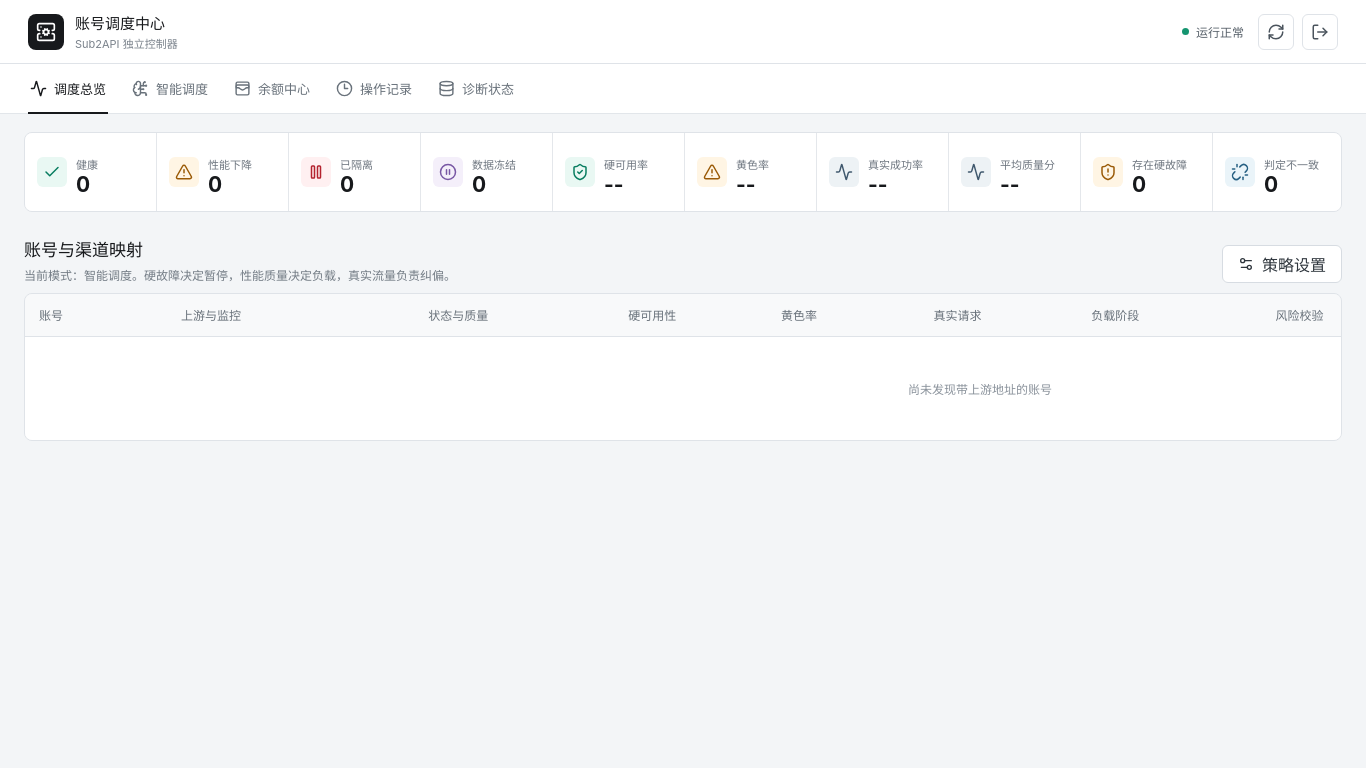
Test: App › requires confirmation before releasing either global freeze
The image size is (1366, 768).
Click the button "智能调度": [170, 89] box [130,64,210,114]
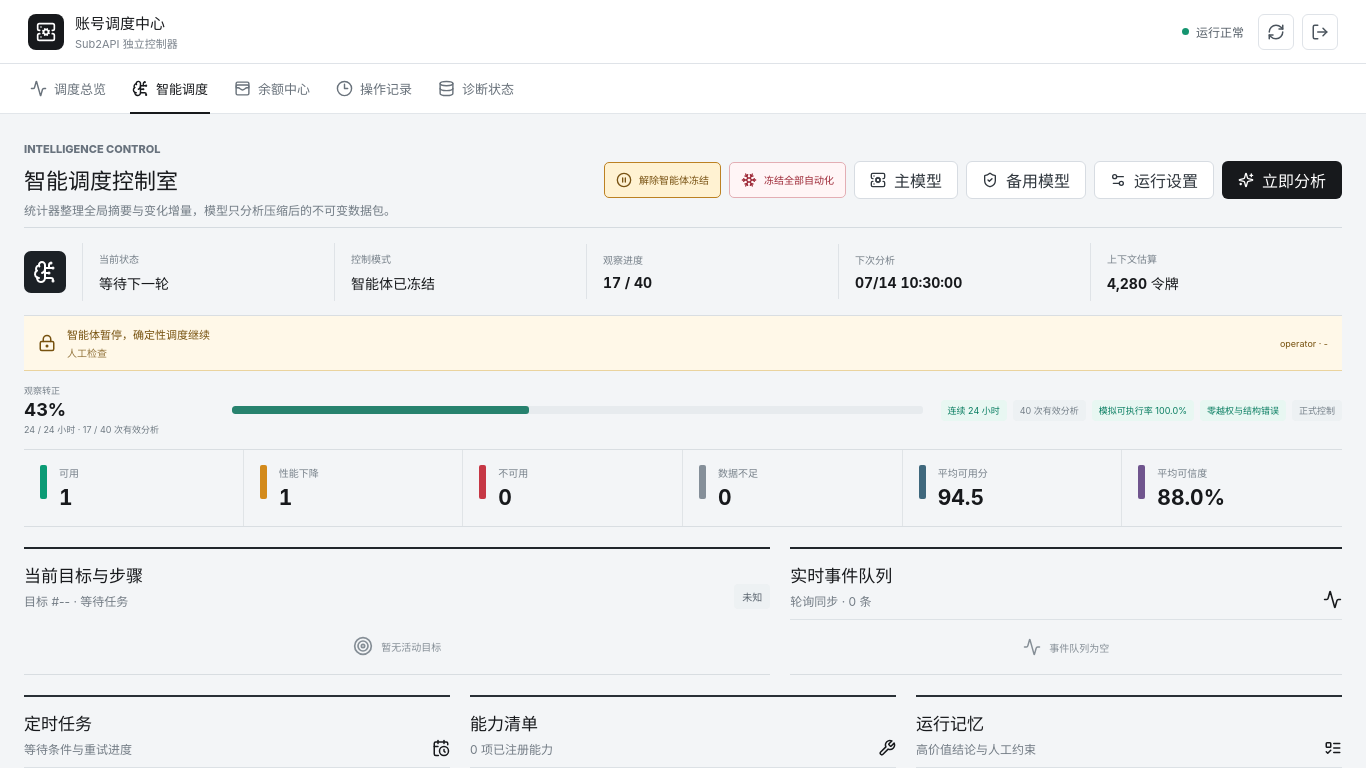
expect the button "解除智能体冻结" is shown: met
Click the button "解除智能体冻结": [662, 180] box [604,162,721,198]
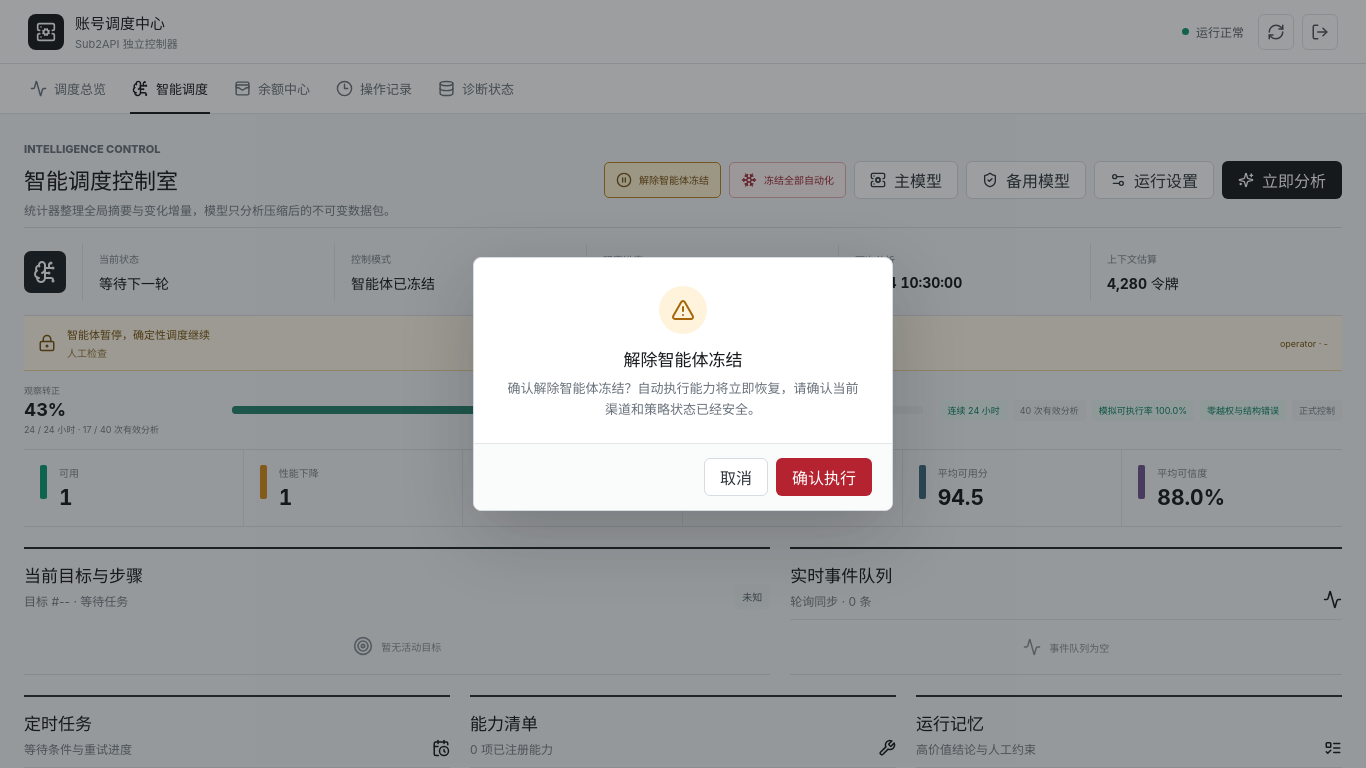
expect the text "自动执行能力将立即恢复" is shown: met, box [508,380,858,416]
Click the button with class "danger-button": [824, 477] box [776,458,872,496]
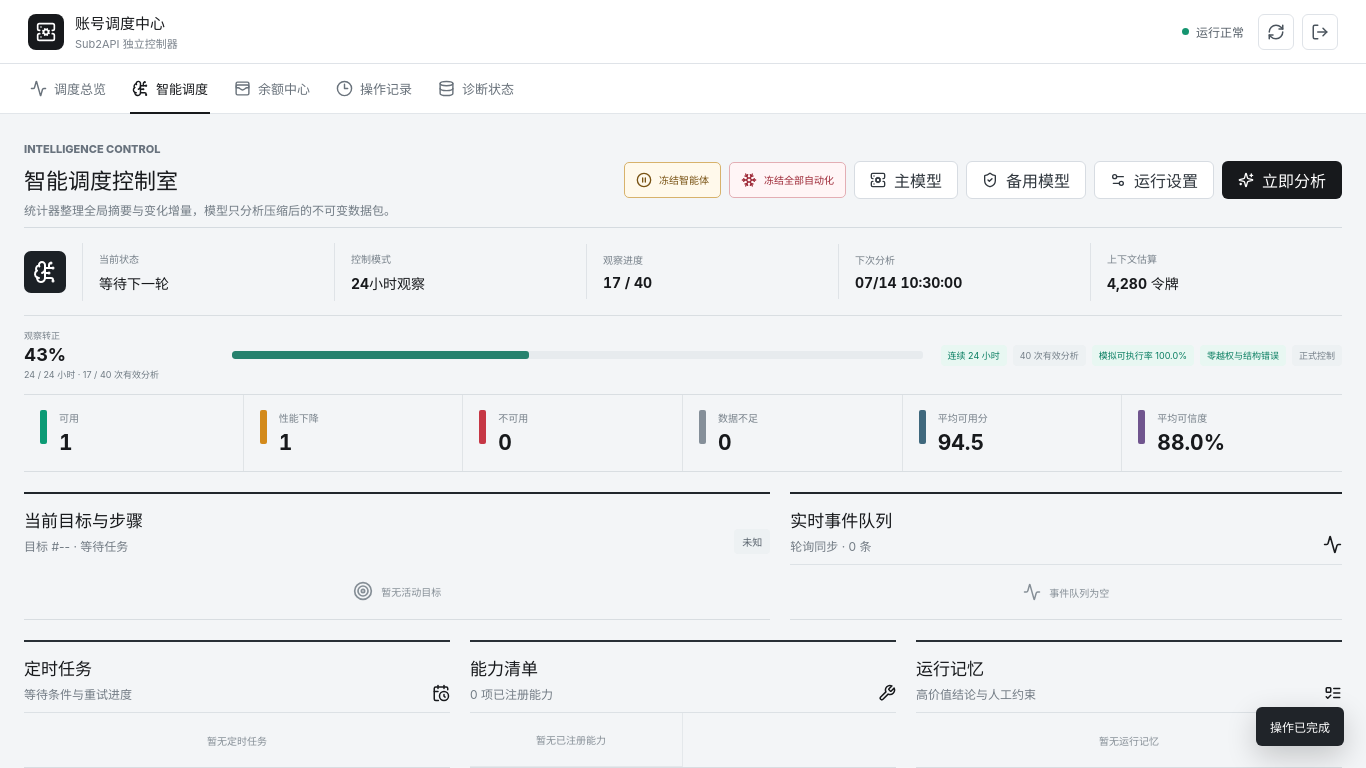
Click the button "冻结全部自动化": [787, 180] box [729,162,846,198]
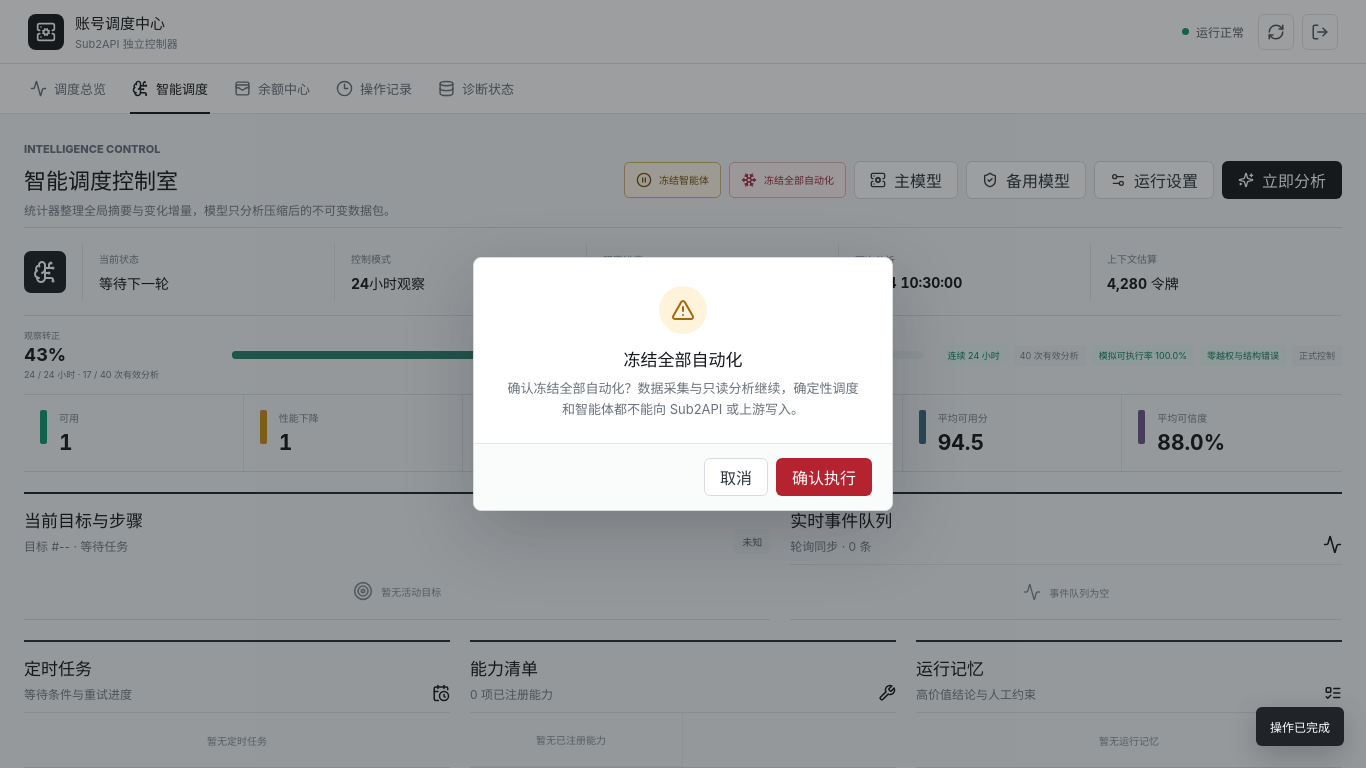
expect the text "确定性调度和智能体都不能向 Sub2API 或上游写入" is shown: met, box [508,380,858,416]
